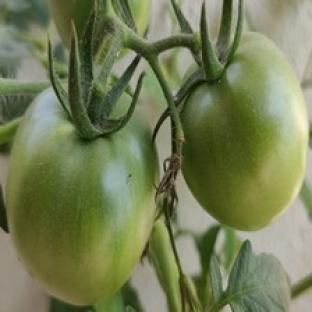Tomato: (6, 90, 158, 305), (182, 33, 307, 229)
